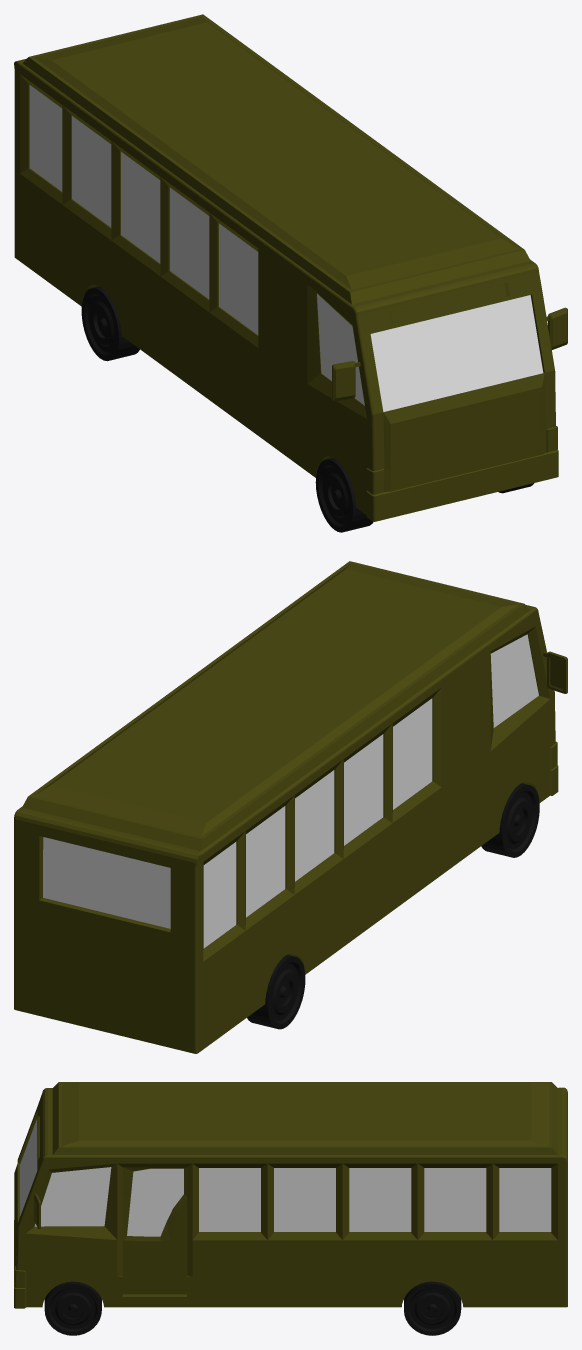
The model's file is Fix_Bus_Final_1.fbx.
3 renders of one model, top to bottom at view 1: azimuth 30°, elevation 25°; view 2: azimuth 150°, elevation 25°; view 3: azimuth 270°, elevation 25°, orthographic. The views are drawn at different scales.
Visible parts, largest first — view 1: Bus_Body, Glass, Glass.002, Tires, Glass.003, Spion.001, Spion; view 2: Bus_Body, Glass, Glass.001, Tires, Glass.003, Spion.001; view 3: Bus_Body, Glass, Door, Tires, Glass.003, Glass.004, Glass.002.
Part boxes in pixels (x1,y1,x2,y2): Bus_Body: (14, 14, 558, 521); Glass: (29, 85, 258, 334); Glass.002: (370, 295, 543, 411); Tires: (81, 286, 534, 532); Glass.003: (317, 294, 364, 405); Spion.001: (332, 361, 360, 401); Spion: (546, 307, 567, 349); Bus_Body: (14, 561, 558, 1053); Glass: (203, 698, 432, 948); Glass.001: (43, 837, 170, 928); Tires: (247, 783, 539, 1029); Glass.003: (490, 634, 538, 727); Spion.001: (543, 651, 567, 693); Bus_Body: (14, 1082, 567, 1308); Glass: (199, 1168, 551, 1231); Door: (122, 1167, 187, 1294); Tires: (44, 1281, 461, 1335); Glass.003: (34, 1167, 111, 1226); Glass.004: (127, 1168, 183, 1236); Glass.002: (20, 1118, 37, 1216).
Bounding box in the file's own units: 673 × 675 × 1789.
